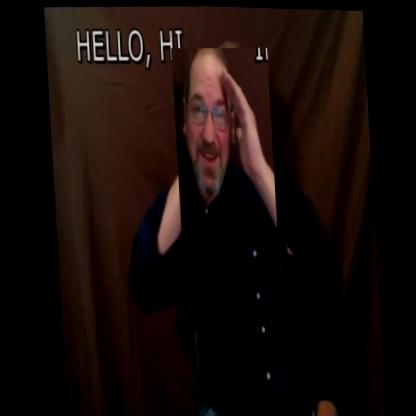Hello: (171, 44, 276, 229)
